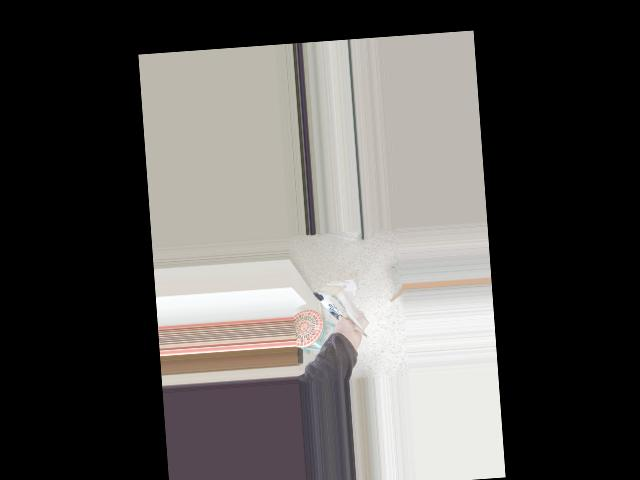cheese: (304, 273, 376, 351)
